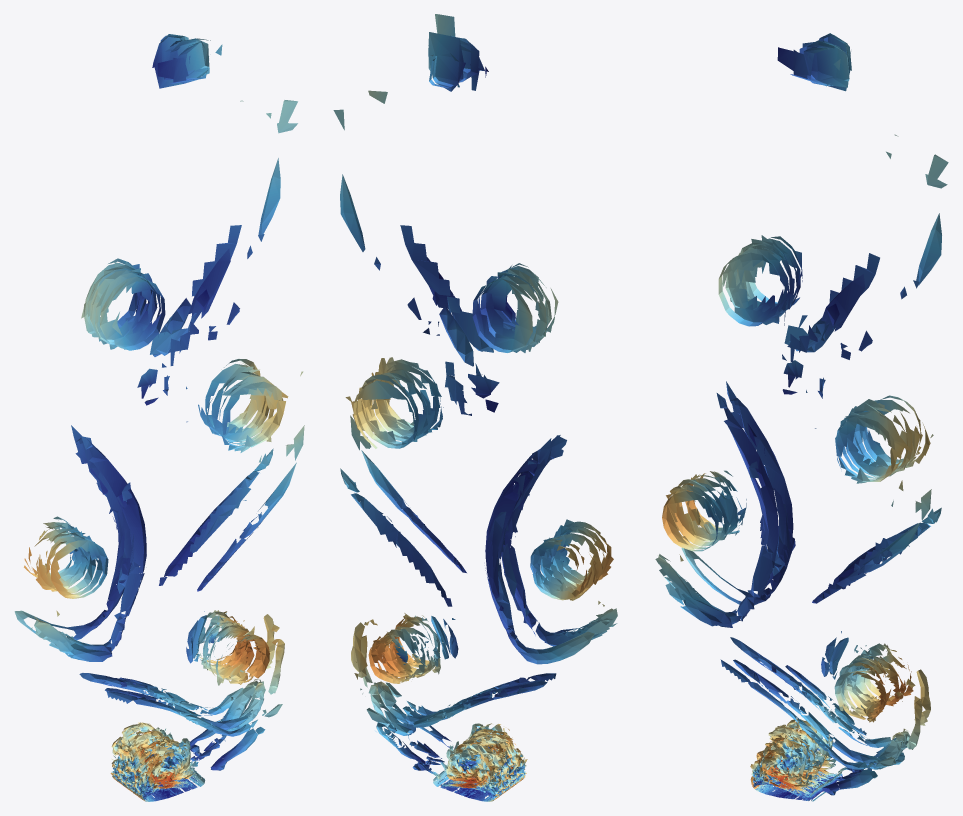
File: flowfield_1_Velocity.glb
3 renders of one model, left to right at view 1: azimuth 30°, elevation 25°; view 2: azimuth 150°, elevation 25°; view 3: azimuth 330°, elevation 25°, orthographic. The views are drawn at different scales.
Parts seen in each view (by area): view 1: Renderer Node; view 2: Renderer Node; view 3: Renderer Node.
Part boxes in pixels (x1,y1,x2,y2): Renderer Node: (14,34,304,801); Renderer Node: (333,14,617,801); Renderer Node: (655,33,948,801).
Size of the model in its own units: 5.21 by 13.5 by 1.03.
Materials: 1 (1 with a texture image).
